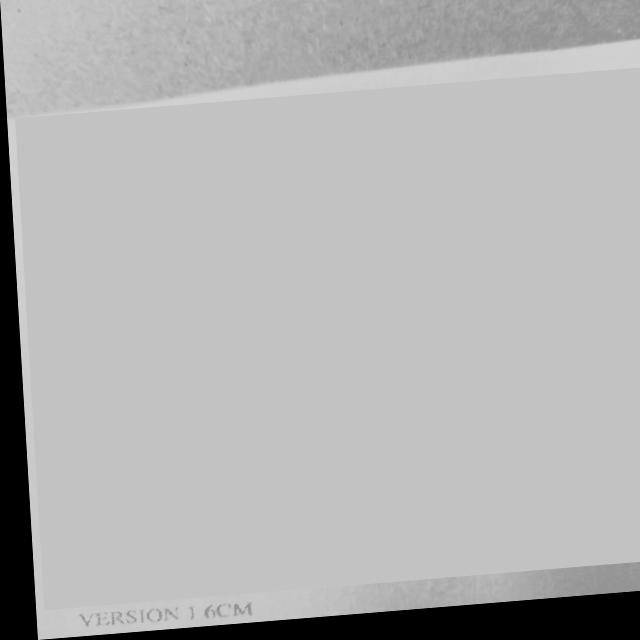qr_code: (14, 78, 640, 610)
